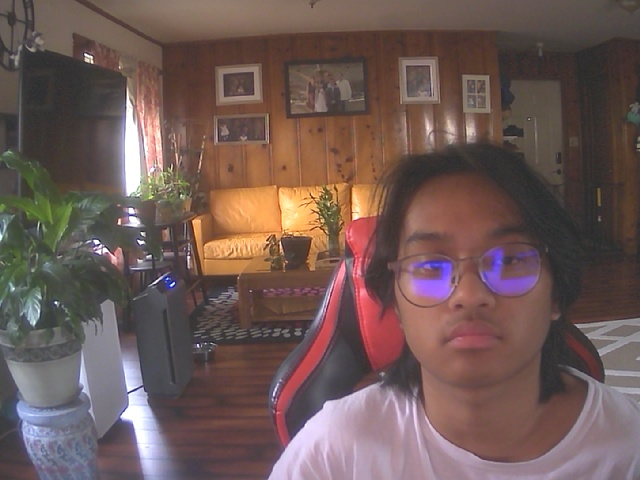neutral: (387, 152, 564, 390)
